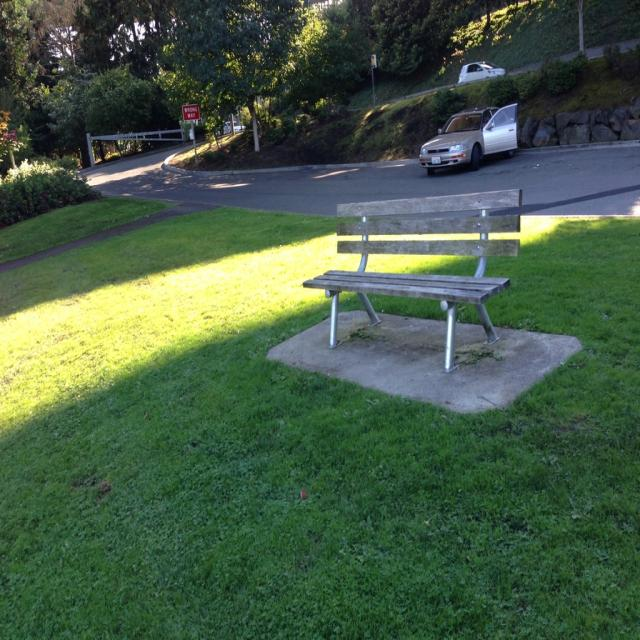car: (418, 101, 520, 173)
